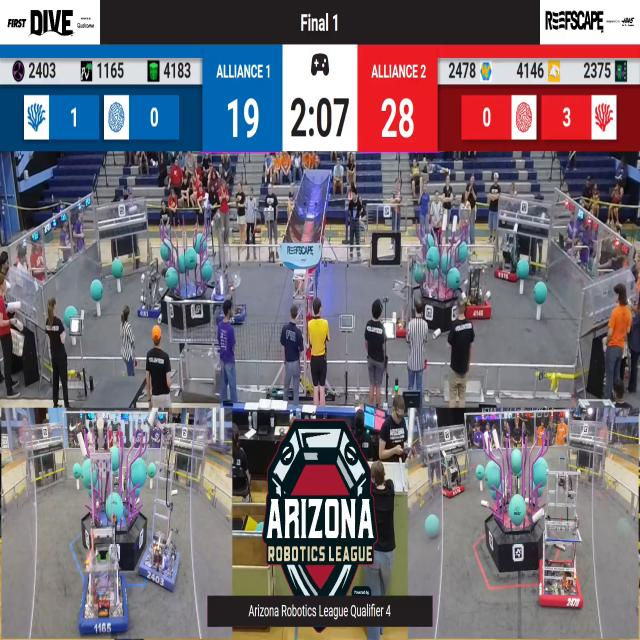scoreboard: (0, 46, 640, 151)
